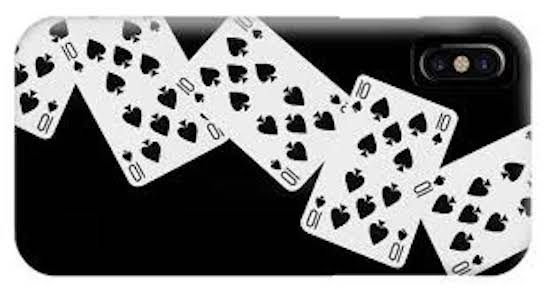TenOfSpades: (175, 17, 352, 193), (300, 71, 457, 267), (60, 18, 230, 182), (412, 121, 534, 277), (15, 23, 77, 143)
